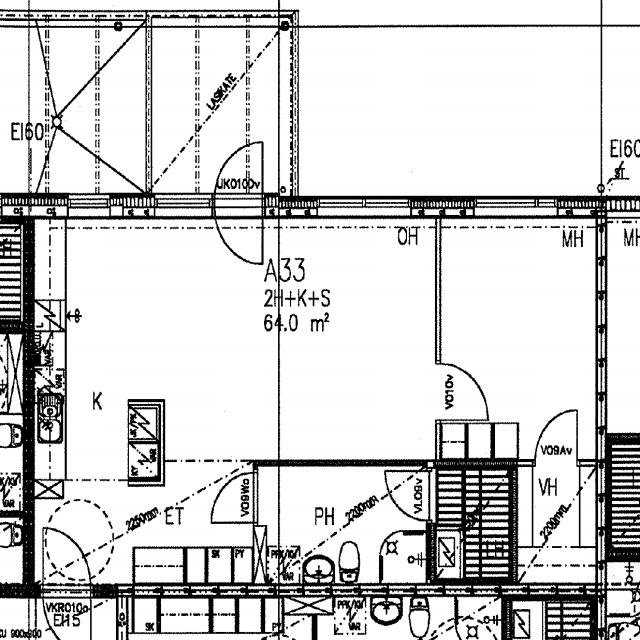door: (215, 192, 262, 276), (215, 134, 262, 218), (42, 526, 90, 596), (435, 364, 488, 420), (210, 473, 258, 523), (535, 409, 577, 466), (385, 470, 432, 520)
